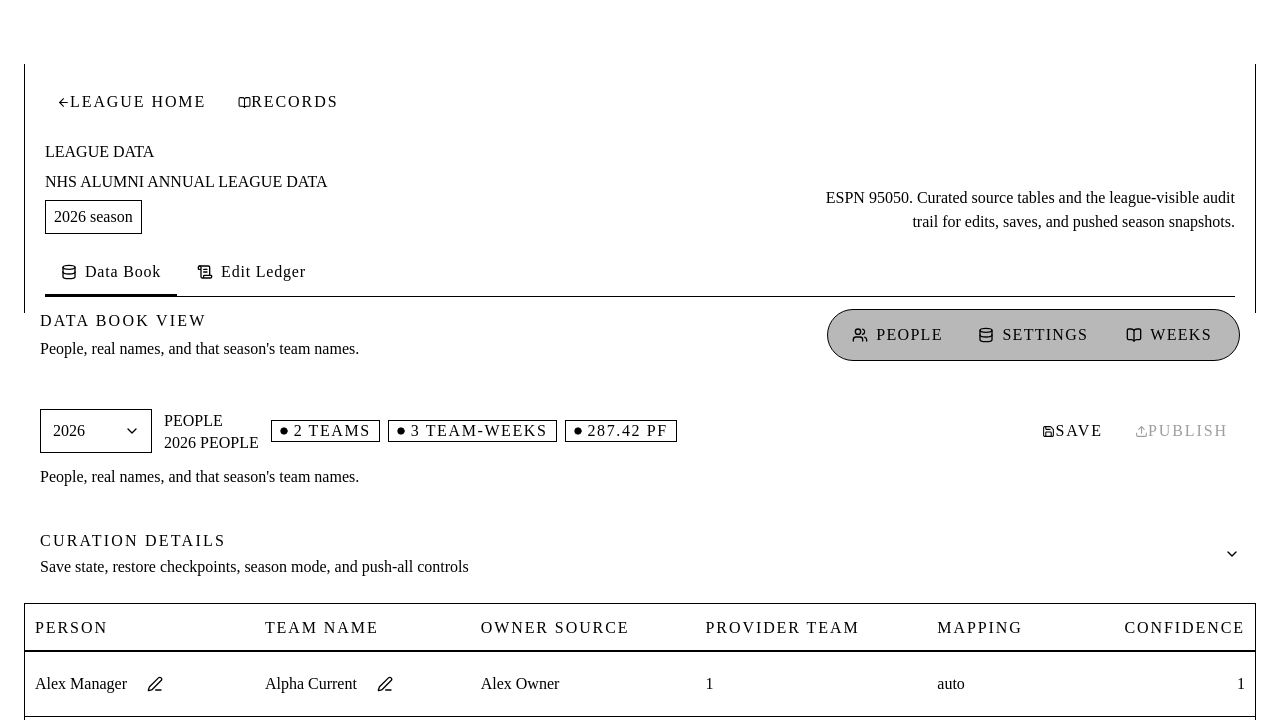
Scenario: team-name edits default to this-year-only and submit the selected season
Click the button named "Edit team name for Alex Manager". click: (385, 684)
box: [363,662,407,706]
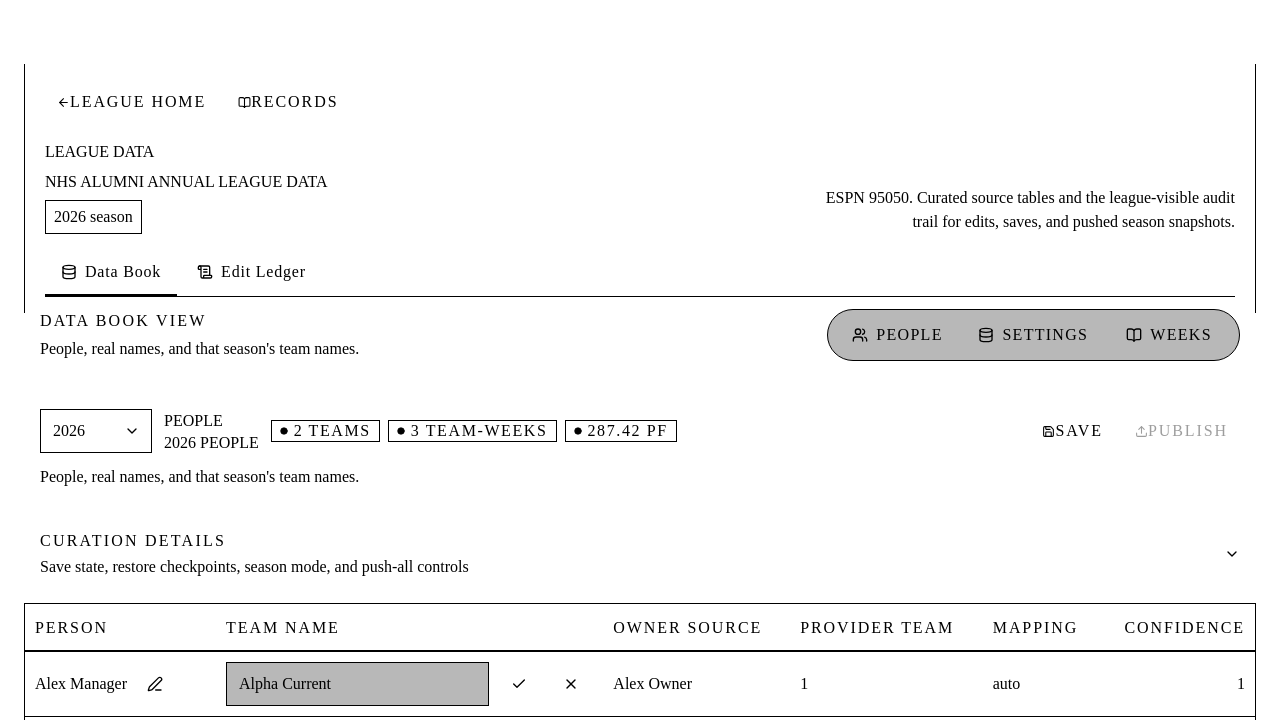
Replace the text in the field named "team name for Alex Manager" with "Alpha 2026 Brand". click: (358, 684)
box: [226,662,489,706]
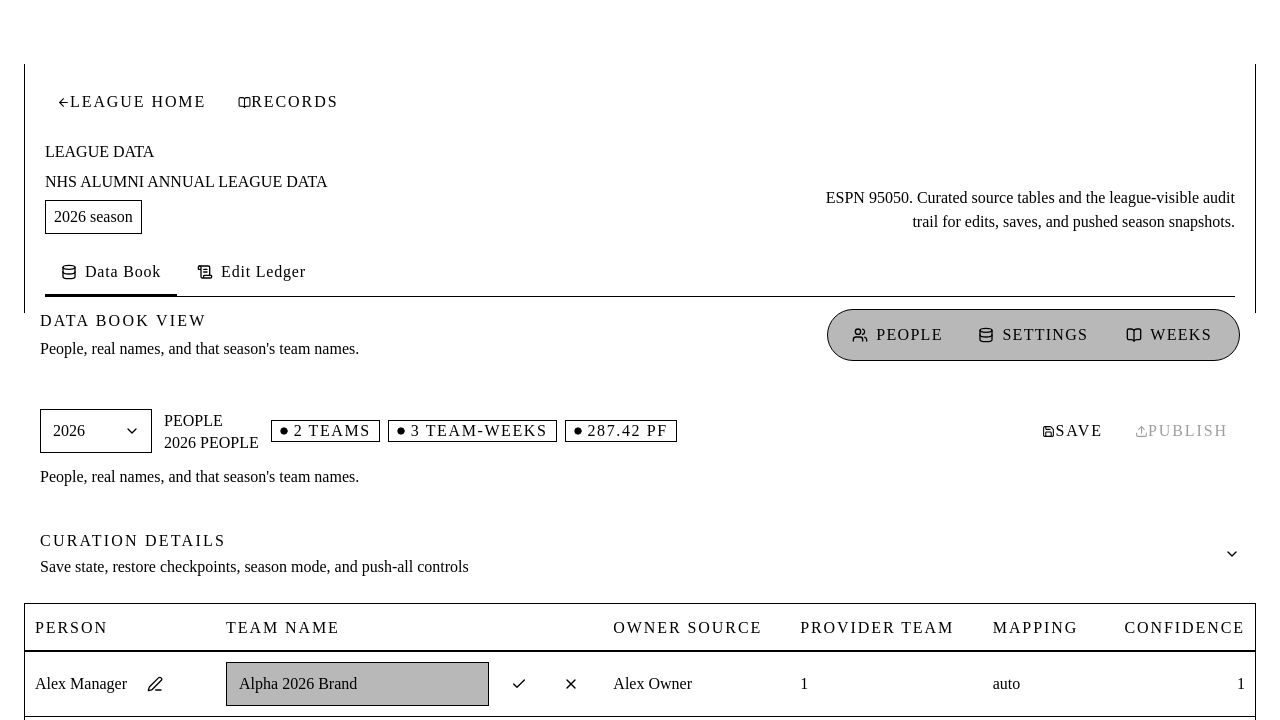
Click the button named "Confirm team name for Alex Manager". click: (519, 684)
box: [497,662,541,706]
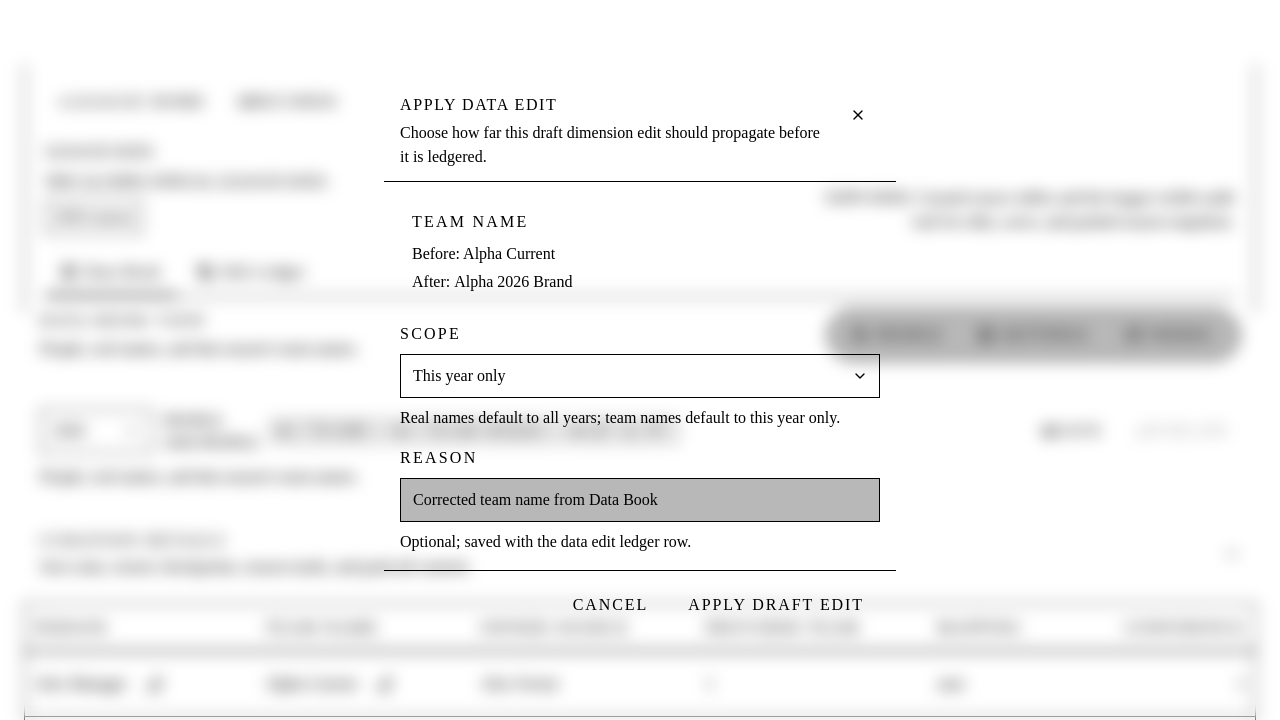
expect the dropdown labelled "Scope" shows "This year only": met, box [400,354,880,398]
Click the button "Apply draft edit". click: (776, 605)
box: [672,583,880,627]
(page scrolled)
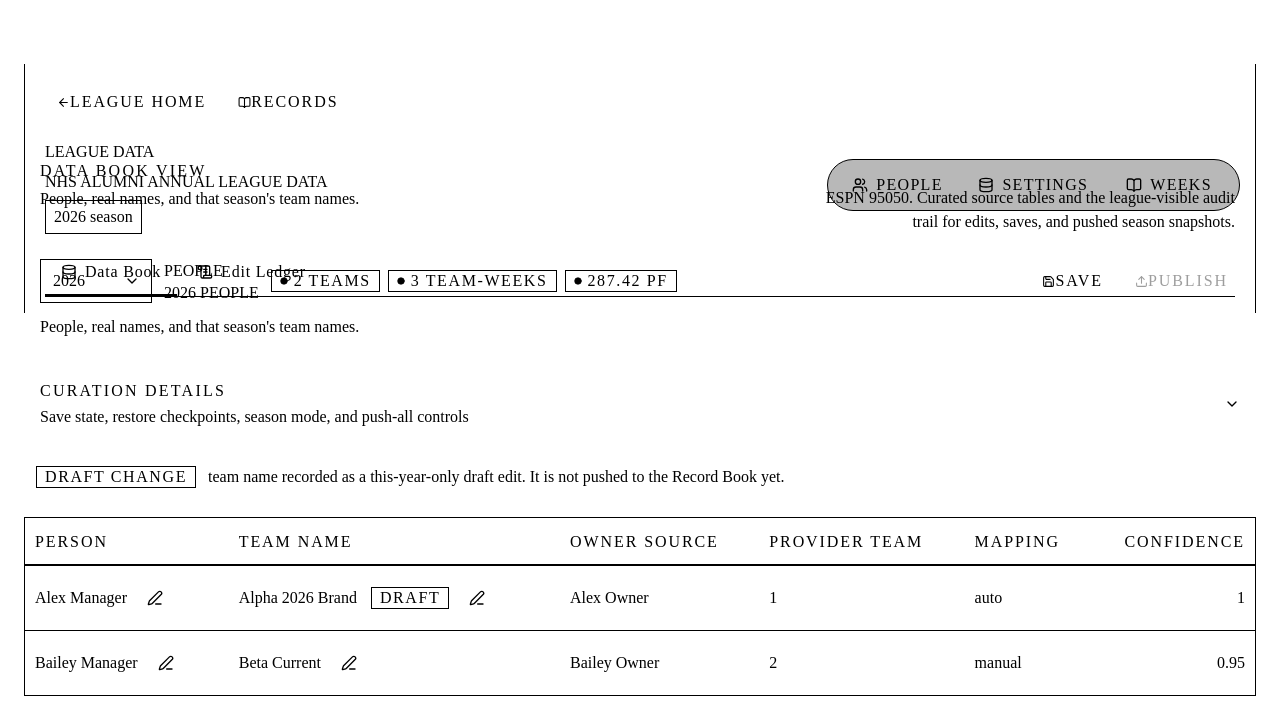
expect the text "Alpha 2026 Brand" is shown: met, box [239,586,357,610]
